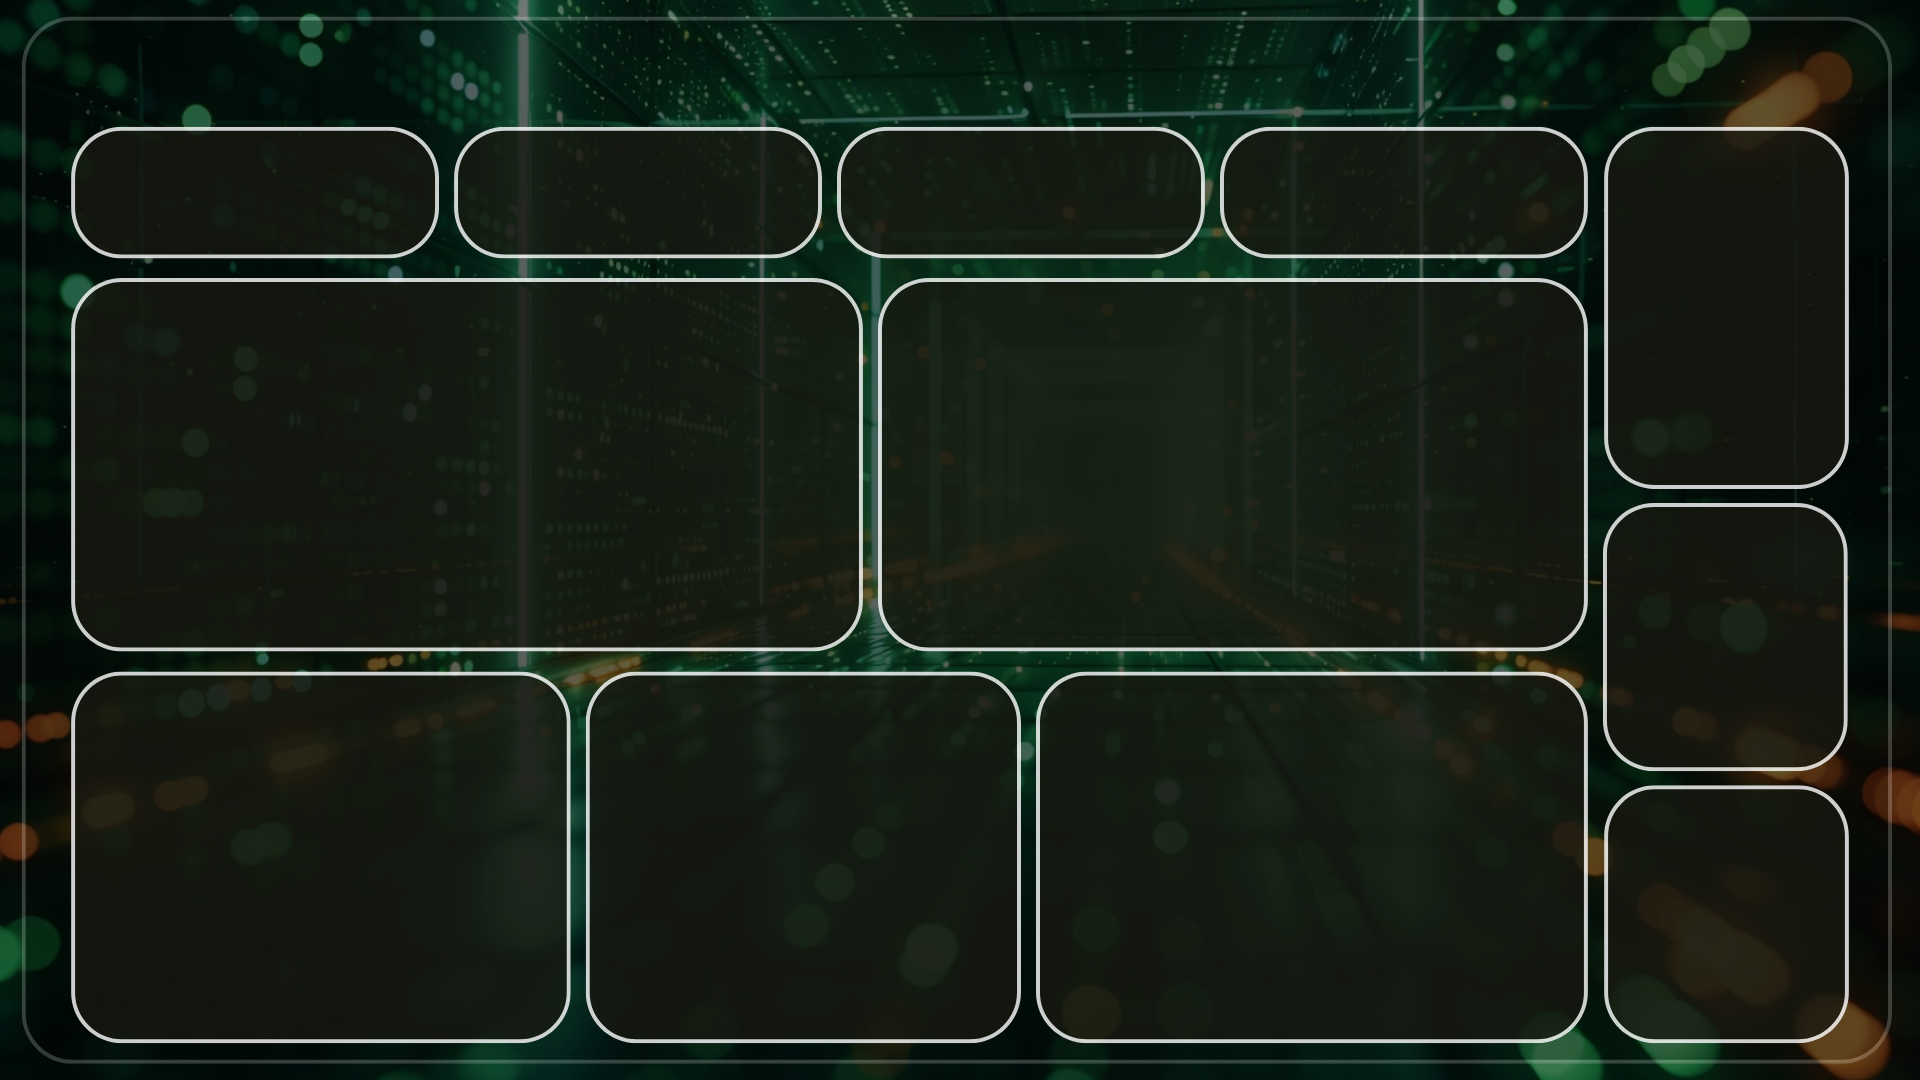

The page's visual inventory and layout, read from the dashboard file:
{"tool":"tableau","page":{"name":"Dashboard 1","canvas":[1600,900],"ordinal":0},"visuals":[{"type":"image","param":"E:/Weskitters/Projects/Tableau_Project/EV/Images/neon.png","box":[0,0,1600,900]},{"type":"text","box":[379,29,778,59]},{"type":"worksheet","title":"Total PHEV Vehicles","mark":"Automatic","box":[1092,113,220,93]},{"type":"worksheet","title":"Avg Electric Range","mark":"Automatic","box":[455,116,215,89]},{"type":"worksheet","title":"Total BEV Vehicles","mark":"Automatic","box":[773,116,214,87]},{"type":"worksheet","title":"Total Vehicles","mark":"Automatic","box":[166,117,164,84]},{"type":"image","param":"E:/Weskitters/Projects/Tableau_Project/EV/Images/performance (1).png","box":[390,123,68,68]},{"type":"image","param":"E:/Weskitters/Projects/Tableau_Project/EV/Images/charging-station.png","box":[94,125,68,68]},{"type":"image","param":"E:/Weskitters/Projects/Tableau_Project/EV/Images/vehicle.png","box":[710,125,68,68]},{"type":"image","param":"E:/Weskitters/Projects/Tableau_Project/EV/Images/hybrid-car.png","box":[1026,126,68,68]},{"type":"filter","title":"Top 10 Total Vehicles by Make","param":"[federated.15ht3os1r5m5151a04to40dx3r6q].[none:State:nk]","box":[1344,130,190,64]},{"type":"filter","title":"Top 10 Total Vehicles by Make","param":"[federated.15ht3os1r5m5151a04to40dx3r6q].[none:Electric Vehicle Type:nk]","box":[1344,194,190,63]},{"type":"text","box":[831,239,397,39]},{"type":"text","box":[93,243,397,45]},{"type":"filter","title":"Total Vehicles by Model Year","param":"[federated.15ht3os1r5m5151a04to40dx3r6q].[none:Model:nk]","box":[1344,257,190,63]},{"type":"worksheet","title":"Total Vehicles by Model Year","mark":"Area","rows":["Calculation_0890916236951552","Calculation_0890916236951552"],"cols":["Model Year"],"box":[71,273,636,257]},{"type":"worksheet","title":"Total Vehicles by State","mark":"Multipolygon","box":[740,281,572,241]},{"type":"filter","title":"Total Vehicles by Model Year","param":"[federated.15ht3os1r5m5151a04to40dx3r6q].[none:Clean Alternative Fuel Vehicle (C","box":[1344,320,190,63]},{"type":"text","box":[1347,433,182,188]},{"type":"text","box":[70,567,297,35]},{"type":"text","box":[514,567,312,35]},{"type":"text","box":[954,569,270,25]},{"type":"parameter","param":"[Parameters].[Parameter 1]","box":[349,575,100,26]},{"type":"worksheet","title":"Total Vehicles by CAFV Eligibility","mark":"Pie","rows":["Calculation_0890916264972296","Calculation_0890916264972296"],"box":[507,598,321,265]},{"type":"worksheet","title":"Total Vehicles by Model","mark":"Square","rows":["Model","Make","Electric Vehicle Type"],"box":[874,602,438,247]},{"type":"worksheet","title":"Top 10 Total Vehicles by Make","mark":"Automatic","rows":["Make"],"cols":["Calculation_0890916236951552"],"box":[66,608,409,254]},{"type":"text","box":[1347,669,182,188]}]}

Visuals, with their boxes in screenshot pixels (x1, y1, x2, y2), scaled from the page's 1600x900 canvas onto the 1920x1080 screenshot:
image: crop(0, 0, 1919, 1079)
text: crop(455, 35, 1388, 106)
"Total PHEV Vehicles" worksheet: crop(1310, 136, 1574, 247)
"Avg Electric Range" worksheet: crop(546, 139, 804, 246)
"Total BEV Vehicles" worksheet: crop(928, 139, 1184, 244)
"Total Vehicles" worksheet: crop(199, 140, 396, 241)
image: crop(468, 148, 550, 229)
image: crop(113, 150, 194, 232)
image: crop(852, 150, 934, 232)
image: crop(1231, 151, 1313, 233)
"Top 10 Total Vehicles by Make" filter: crop(1613, 156, 1841, 233)
"Top 10 Total Vehicles by Make" filter: crop(1613, 233, 1841, 308)
text: crop(997, 287, 1474, 334)
text: crop(112, 292, 588, 346)
"Total Vehicles by Model Year" filter: crop(1613, 308, 1841, 384)
"Total Vehicles by Model Year" worksheet (Area marks): crop(85, 328, 848, 636)
"Total Vehicles by State" worksheet (Multipolygon marks): crop(888, 337, 1574, 626)
"Total Vehicles by Model Year" filter: crop(1613, 384, 1841, 460)
text: crop(1616, 520, 1835, 745)
text: crop(84, 680, 440, 722)
text: crop(617, 680, 991, 722)
text: crop(1145, 683, 1469, 713)
parameter: crop(419, 690, 539, 721)
"Total Vehicles by CAFV Eligibility" worksheet (Pie marks): crop(608, 718, 994, 1036)
"Total Vehicles by Model" worksheet (Square marks): crop(1049, 722, 1574, 1019)
"Top 10 Total Vehicles by Make" worksheet: crop(79, 730, 570, 1034)
text: crop(1616, 803, 1835, 1028)
